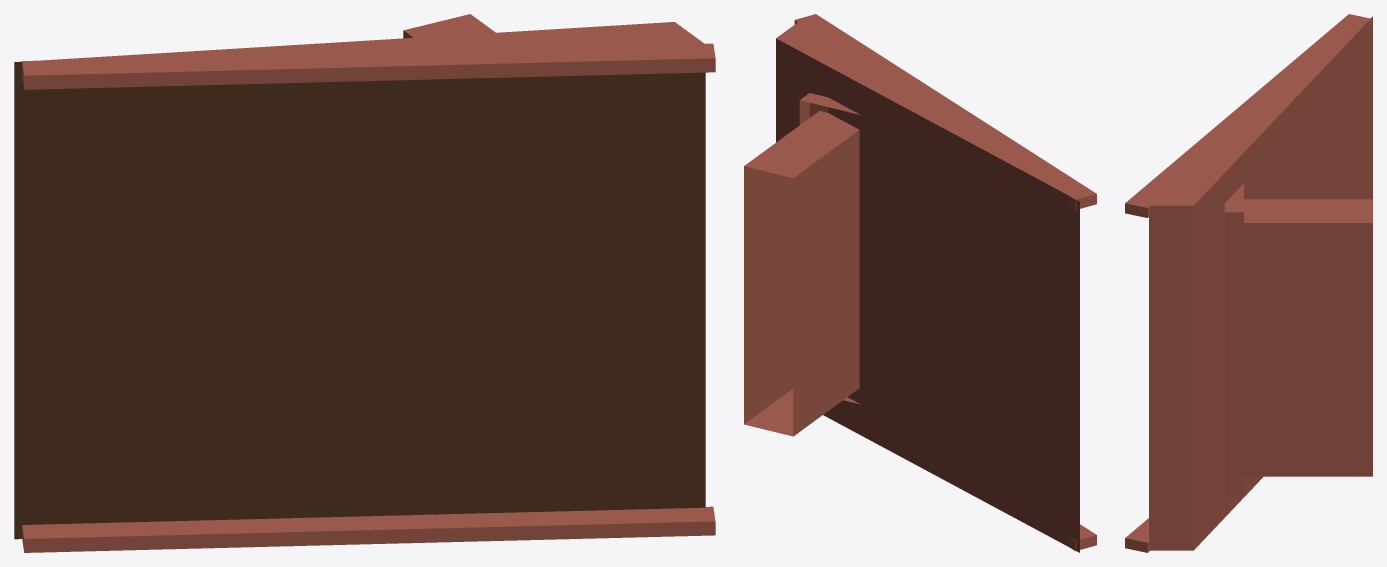
File: ramp.glb
3 views of the same model, side by side, from view 1: azimuth 30°, elevation 25°; view 2: azimuth 150°, elevation 25°; view 3: azimuth 270°, elevation 25° (orthographic). The views are drawn at different scales.
Parts seen in each view (by area): view 1: bridge_09_ramp; view 2: bridge_09_ramp; view 3: bridge_09_ramp.
Boxes of the visible parts, x1=… form: bridge_09_ramp: x1=14, y1=14, x2=715, y2=552; bridge_09_ramp: x1=744, y1=14, x2=1096, y2=552; bridge_09_ramp: x1=1125, y1=14, x2=1372, y2=552.
Bounding box in the file's own units: 16.4 × 13.6 × 8.85.
